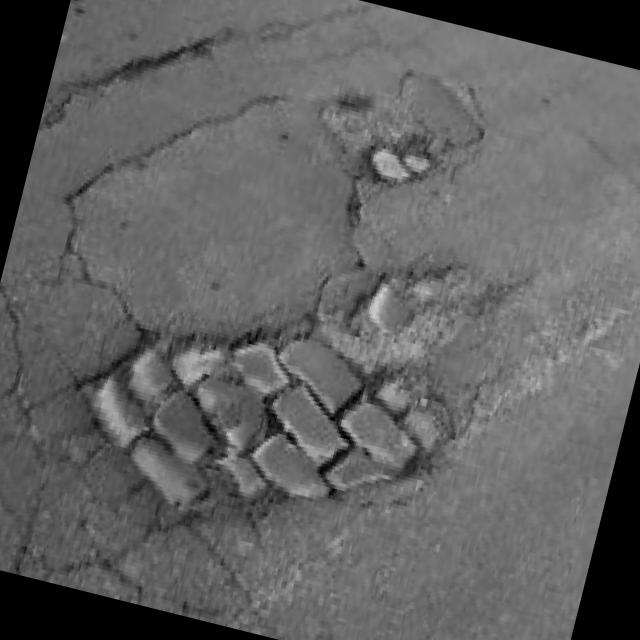Potholes: (47, 293, 480, 564), (320, 82, 472, 211)
